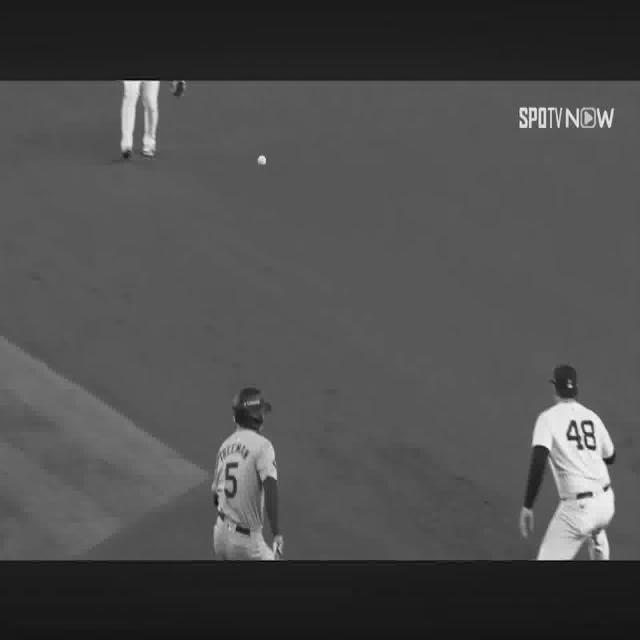baseball: (258, 156, 266, 163)
baseball_glove: (169, 80, 186, 97)
shoe: (142, 138, 156, 158), (121, 147, 132, 160)
